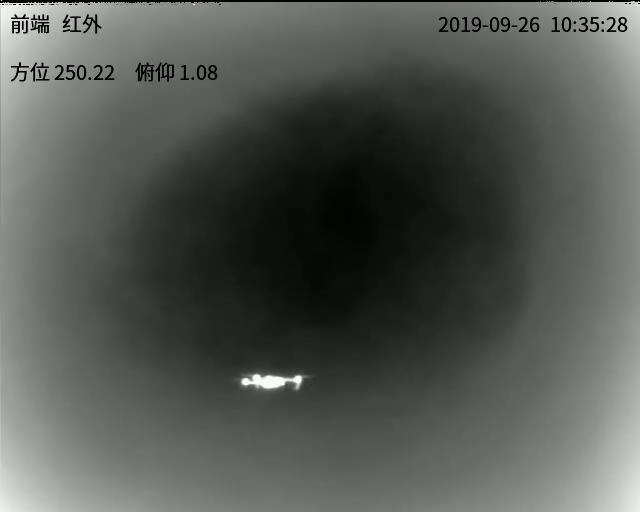uav: (237, 368, 315, 394)
